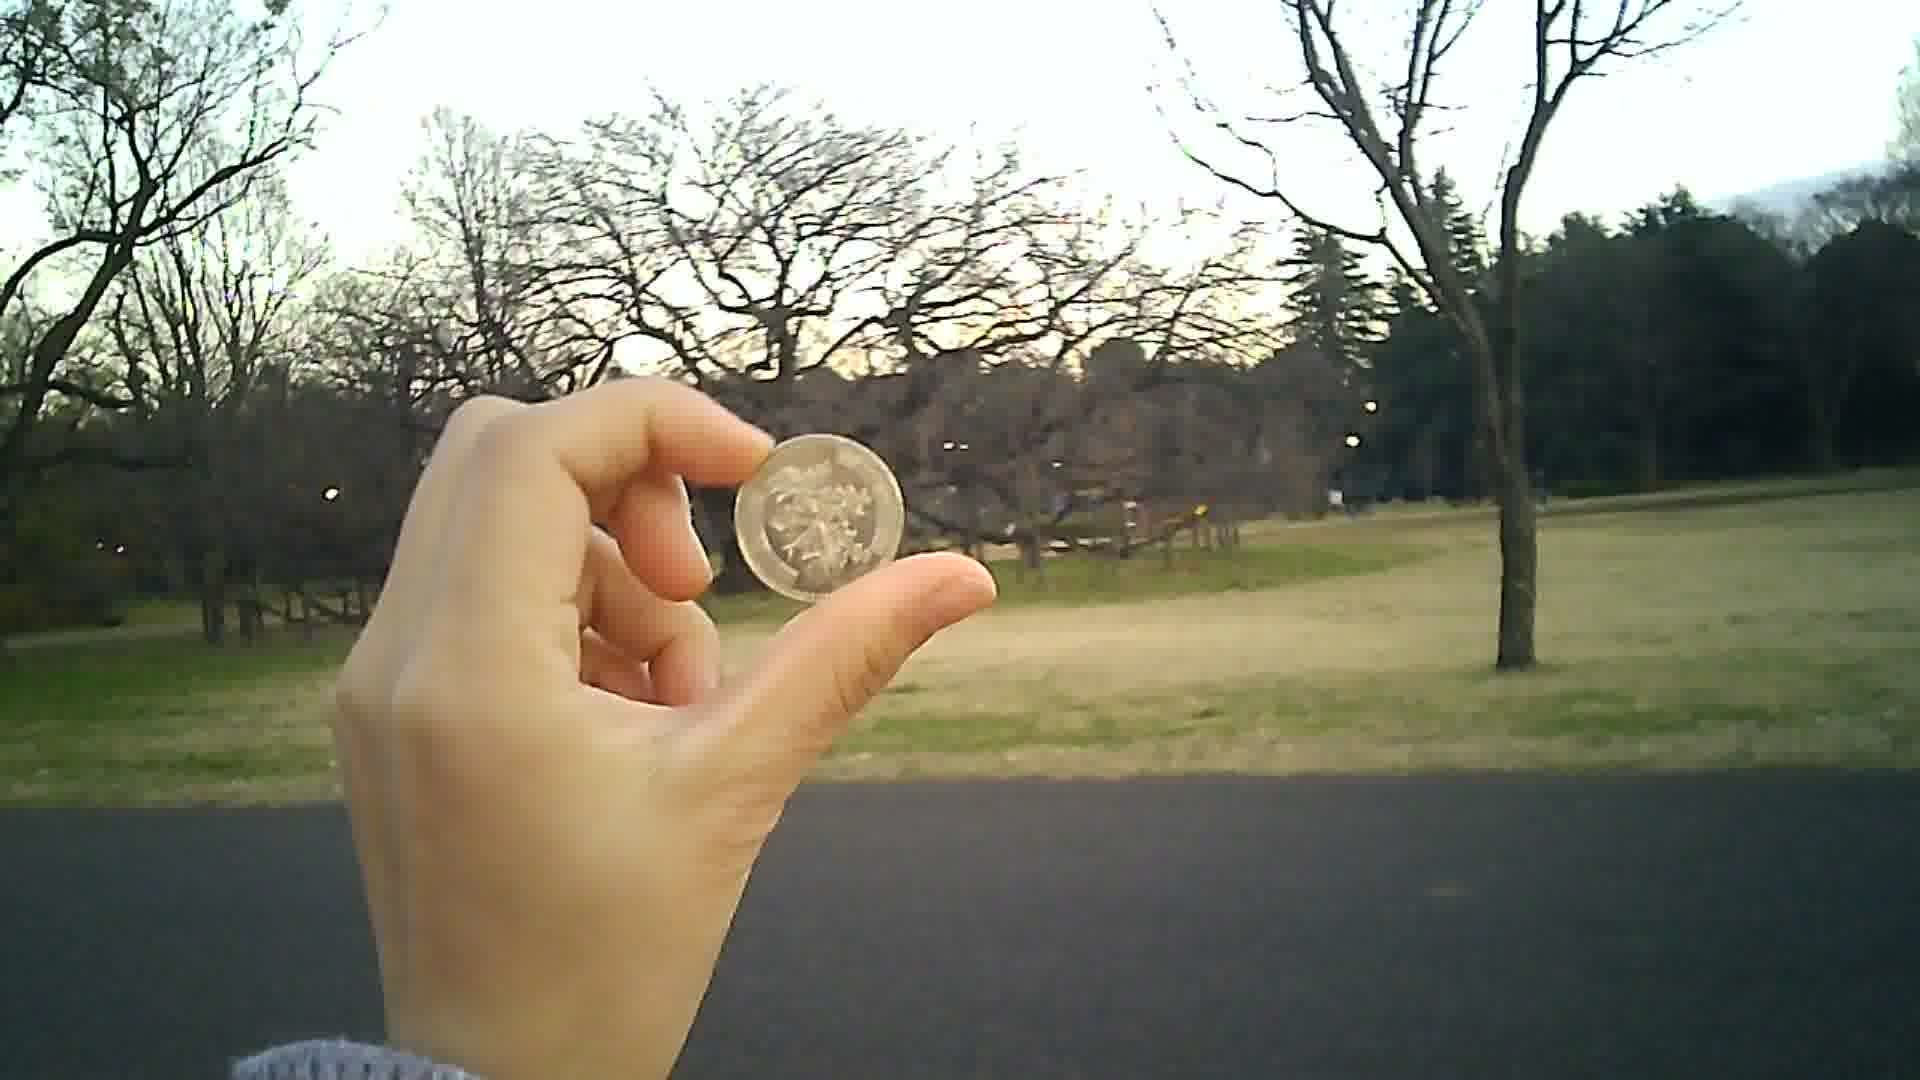500 Yen: (727, 427, 907, 603)
